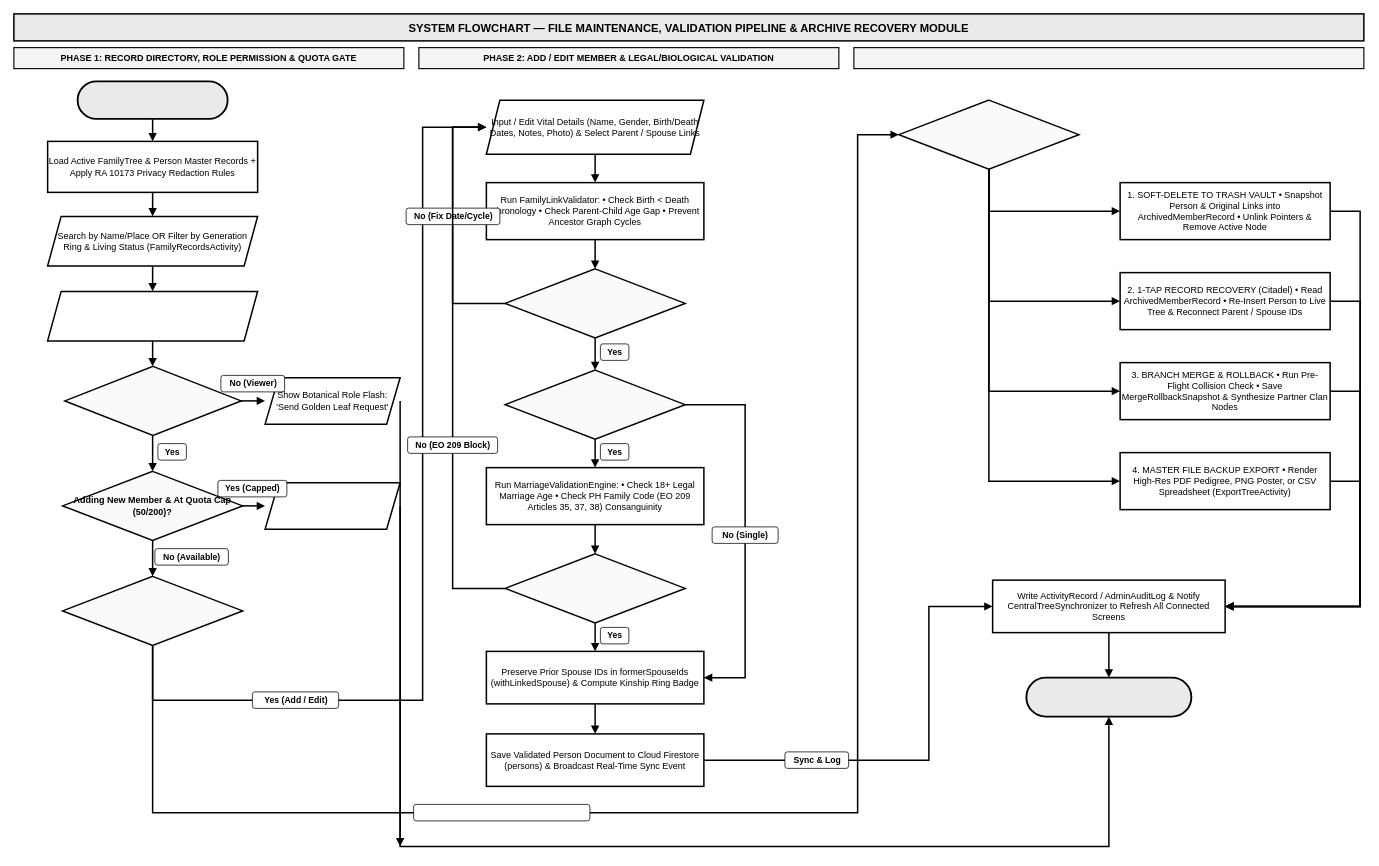
The diagram is 1379 pixels wide and 866 high, and some of its shapes have lost their labels. The centre of each missing label's shape, as x and y in pixels:
Biological & Timeline Validation Passed?: the point at 595,303
END (Maintenance Complete): the point at 1108,696
Evaluate Selected Maintenance Utility: the point at 988,134
Has Write Permission (Owner or Editor)?: the point at 153,400
Is a Spouse / Marriage Union Linked?: the point at 595,404
Is Operation Add or Edit Member Record?: the point at 152,610
Marriage Union Valid (No Legal Conflict)?: the point at 595,588
No (Delete / Restore / Merge / Export): the point at 501,812
PHASE 3: SOFT-DELETE VAULT, 1-TAP RECOVERY, MERGE & EXPORT: the point at 1108,58
Prompt Owner: Request Free +150 Tier Expansion: the point at 332,506
Select Maintenance Operation: Add, Edit, Delete, Restore, Merge, or Export File: the point at 152,315
START (Open File Maintenance): the point at 152,99
